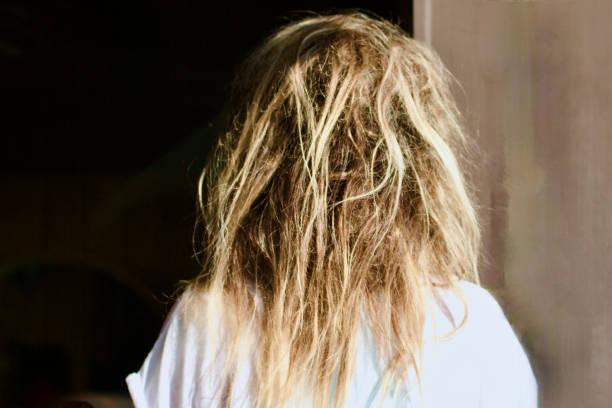dry hair: (394, 119, 429, 234), (276, 108, 315, 171), (338, 108, 371, 172), (261, 186, 294, 246), (341, 176, 373, 235), (458, 122, 484, 170), (305, 55, 324, 94), (222, 129, 234, 166)
